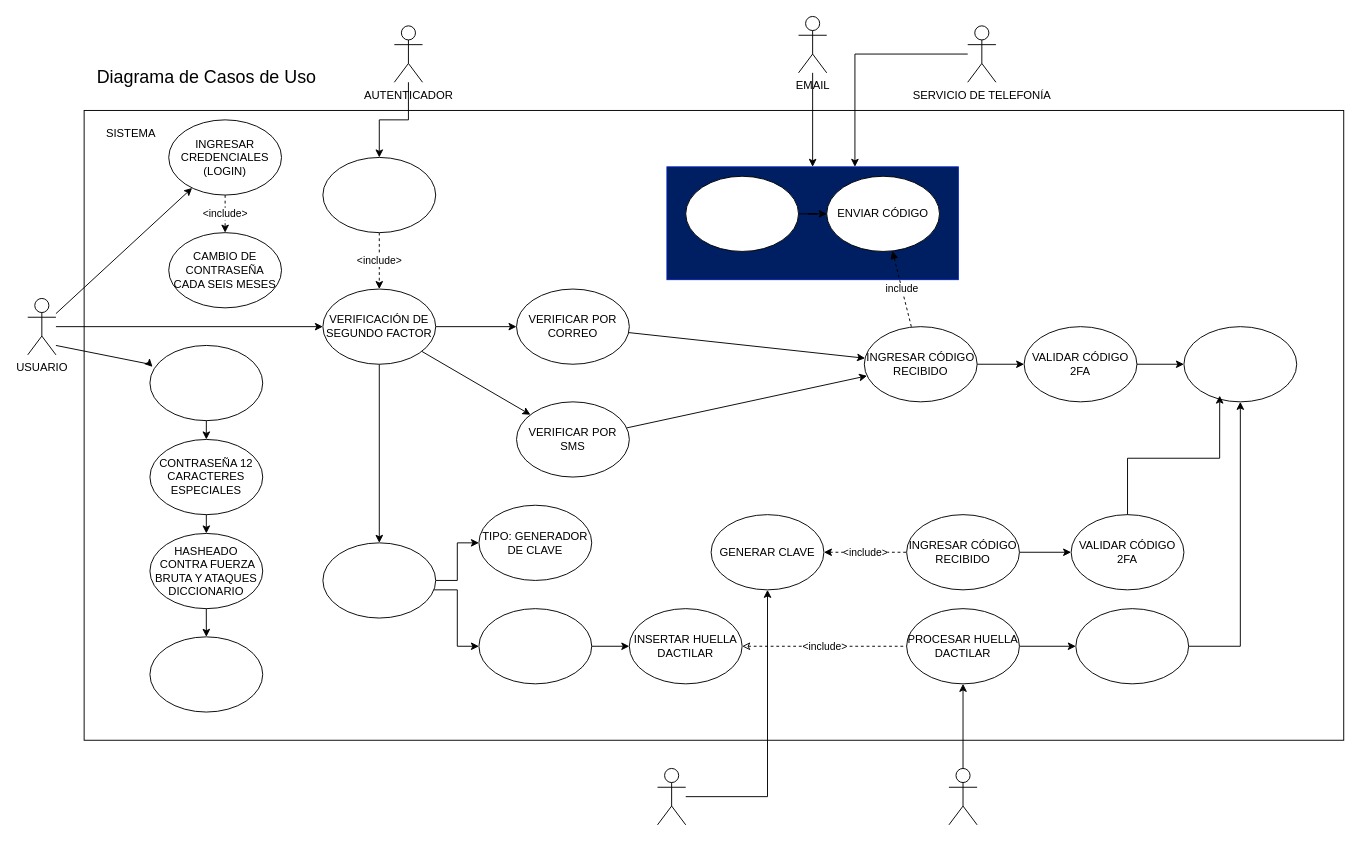
The diagram is 1360 pixels wide and 861 high, and some of its shapes have lost their labels. Each missing label, with the centre of its shape:
ACCEDER AL SISTEMA: the point at 1240,364
DISPOSITIVO CON HUELLA DACTILAR: the point at 962,796
DISPOSITIVO GENERADOR DE CLAVES: the point at 671,796
GENERAR CÓDIGO 2FA: the point at 742,213
PROTECCION CONTRA REUTILIZACION DE CODIGOS: the point at 206,674
REGISTRARSE: the point at 206,383
TIPO: HUELLA DACTILAR: the point at 535,646
VALIDAR CREDENCIALES: the point at 379,195
VALIDAR HUELLA DACTILAR: the point at 1132,646
VERIFICAR POR TOKEN: the point at 379,580
